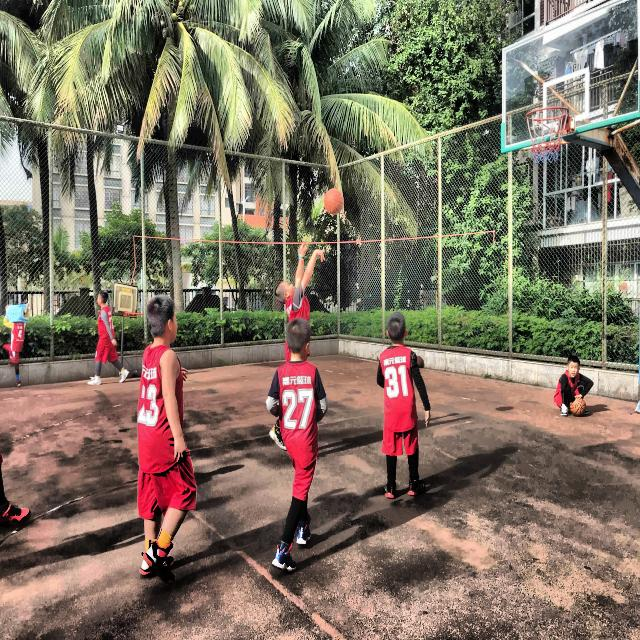board: (325, 189, 344, 216)
rim: (526, 106, 570, 165)
